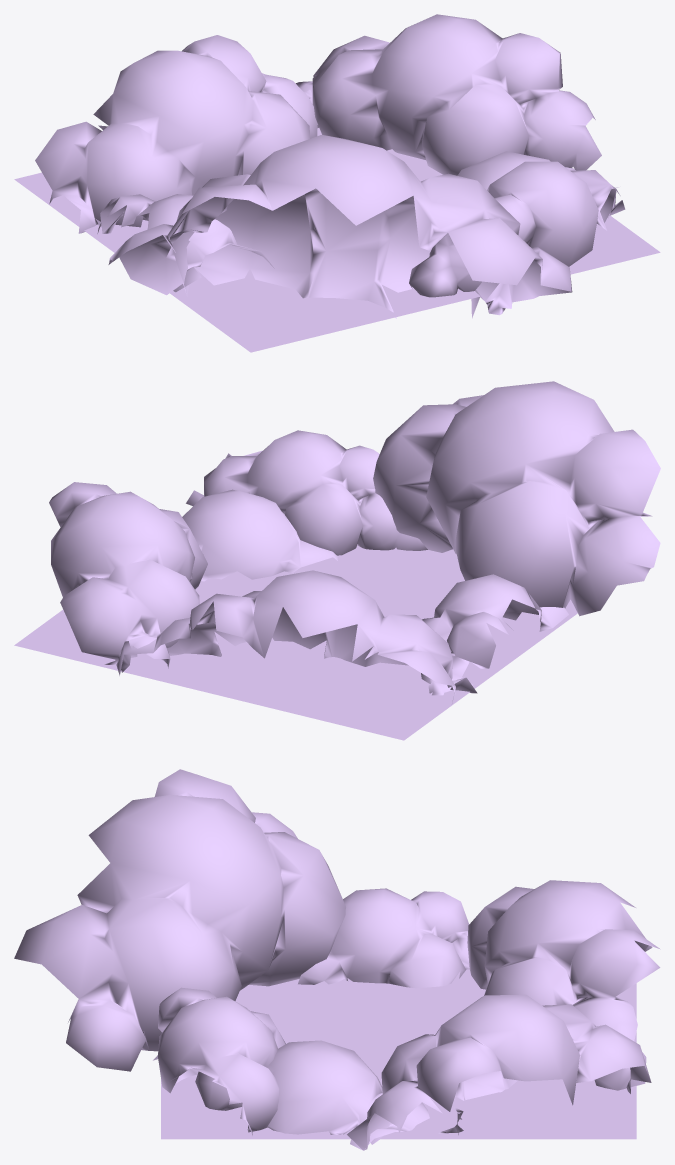
The model's file is 1avion-scene.glb.
3 views of the same model, one above another, from view 1: azimuth 30°, elevation 25°; view 2: azimuth 150°, elevation 25°; view 3: azimuth 270°, elevation 25° (orthographic). The views are drawn at different scales.
Parts seen in each view (by area): view 1: Object_2.006; view 2: Object_2.006; view 3: Object_2.006.
Boxes of the visible parts, x1,y1,x2,y2 form: Object_2.006: (14, 14, 660, 352); Object_2.006: (14, 381, 660, 740); Object_2.006: (14, 769, 660, 1150).
Bounding box in the file's own units: 52.18 × 18.21 × 53.32.
